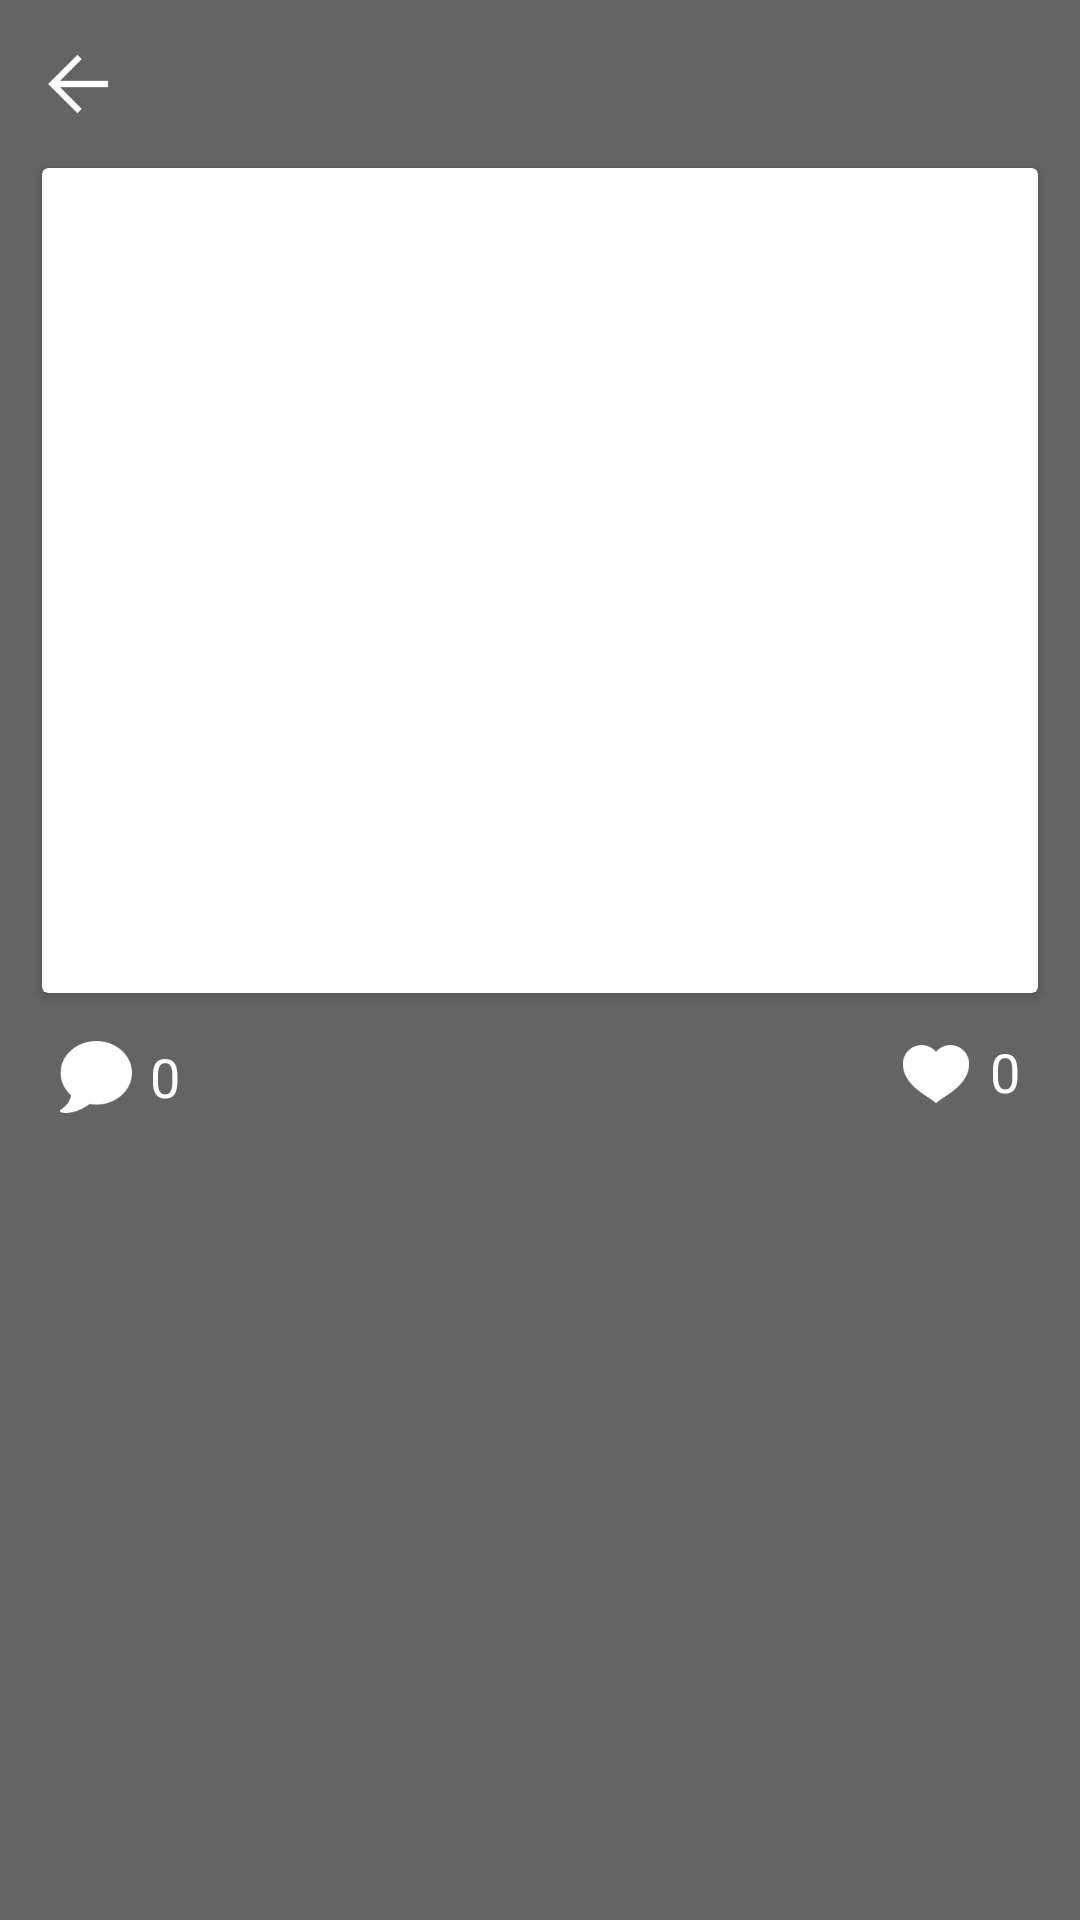

Where to tap for icons on this 1080w x 1920h app screen, as [x,y]:
back: [78,84]
comment: [96,1077]
like: [936,1074]
